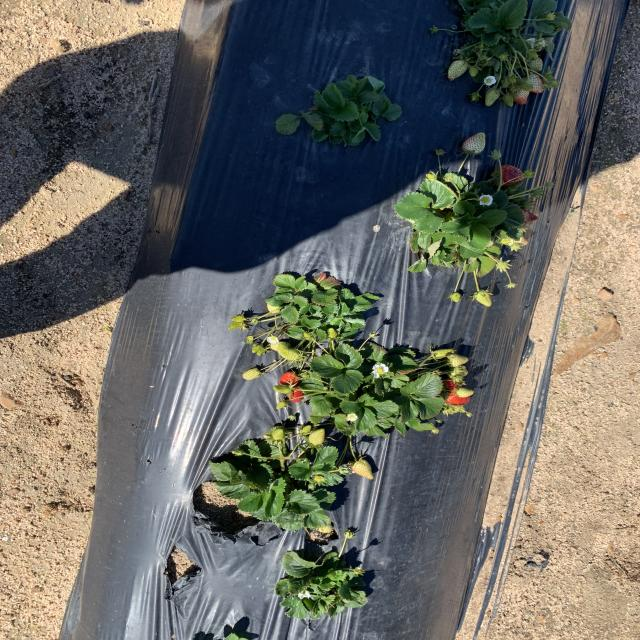unripe: (492, 165, 524, 186), (439, 390, 470, 406), (286, 384, 308, 402), (514, 208, 538, 223), (278, 371, 300, 386), (442, 378, 464, 390)
